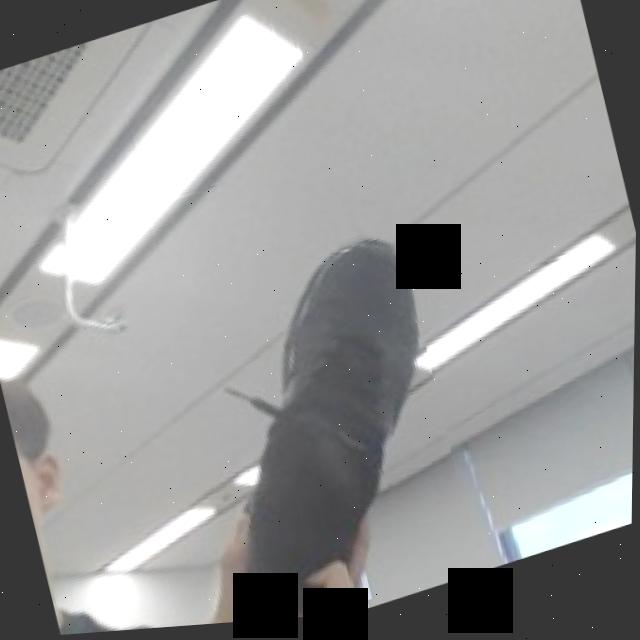shoe: (164, 223, 484, 630)
